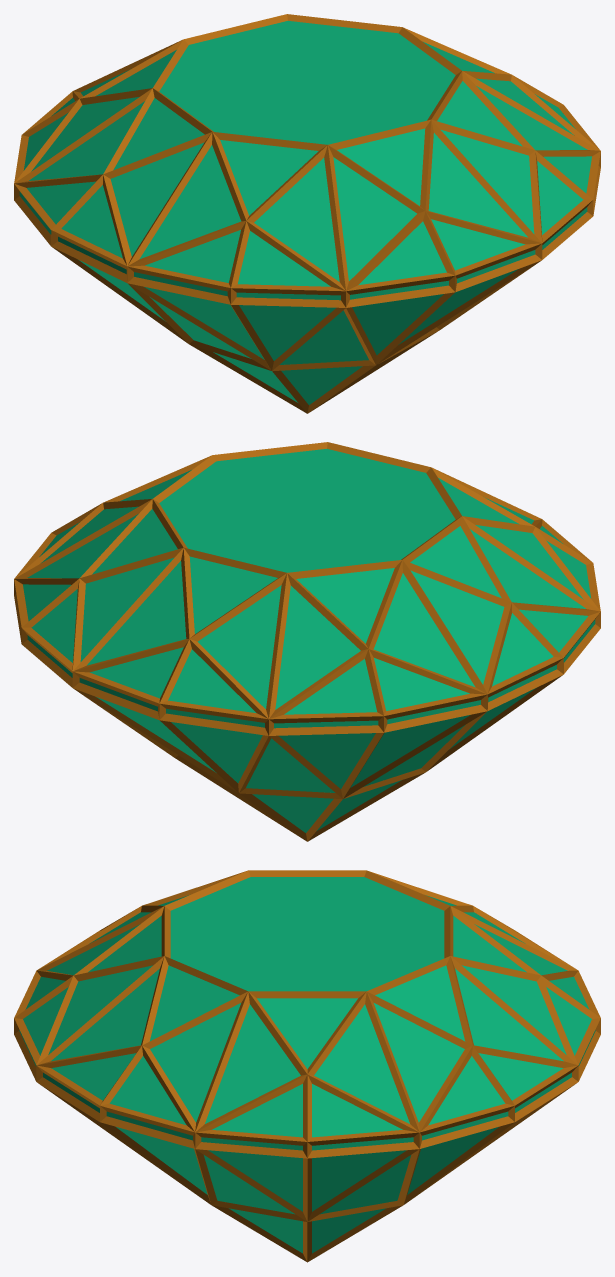
The model's file is fantasy-diamond.obj.
The picture shows the model from 3 angles, top to bottom: view 1: azimuth 30°, elevation 25°; view 2: azimuth 150°, elevation 25°; view 3: azimuth 270°, elevation 25°; orthographic projection.
Parts seen in each view (by area): view 1: fantasy-diamond_gem, fantasy-diamond_gold_edges; view 2: fantasy-diamond_gem, fantasy-diamond_gold_edges; view 3: fantasy-diamond_gem, fantasy-diamond_gold_edges.
Boxes of the visible parts, x1=… form: fantasy-diamond_gem: x1=19, y1=21, x2=591, y2=404; fantasy-diamond_gold_edges: x1=14, y1=14, x2=600, y2=413; fantasy-diamond_gem: x1=23, y1=449, x2=595, y2=832; fantasy-diamond_gold_edges: x1=14, y1=442, x2=600, y2=841; fantasy-diamond_gem: x1=19, y1=877, x2=595, y2=1253; fantasy-diamond_gold_edges: x1=14, y1=870, x2=600, y2=1262.
Size of the model in its own units: 0.1015 by 0.0633 by 0.1015.
